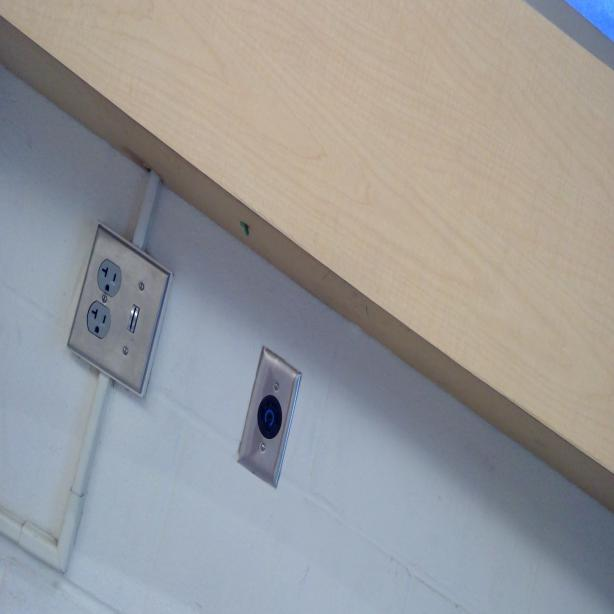typeb: (85, 302, 112, 342), (98, 259, 123, 297)
